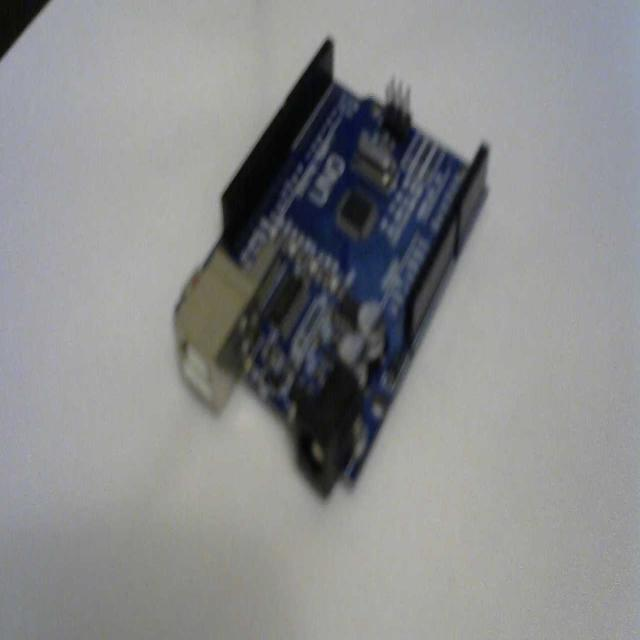arduino: (168, 26, 492, 510)
